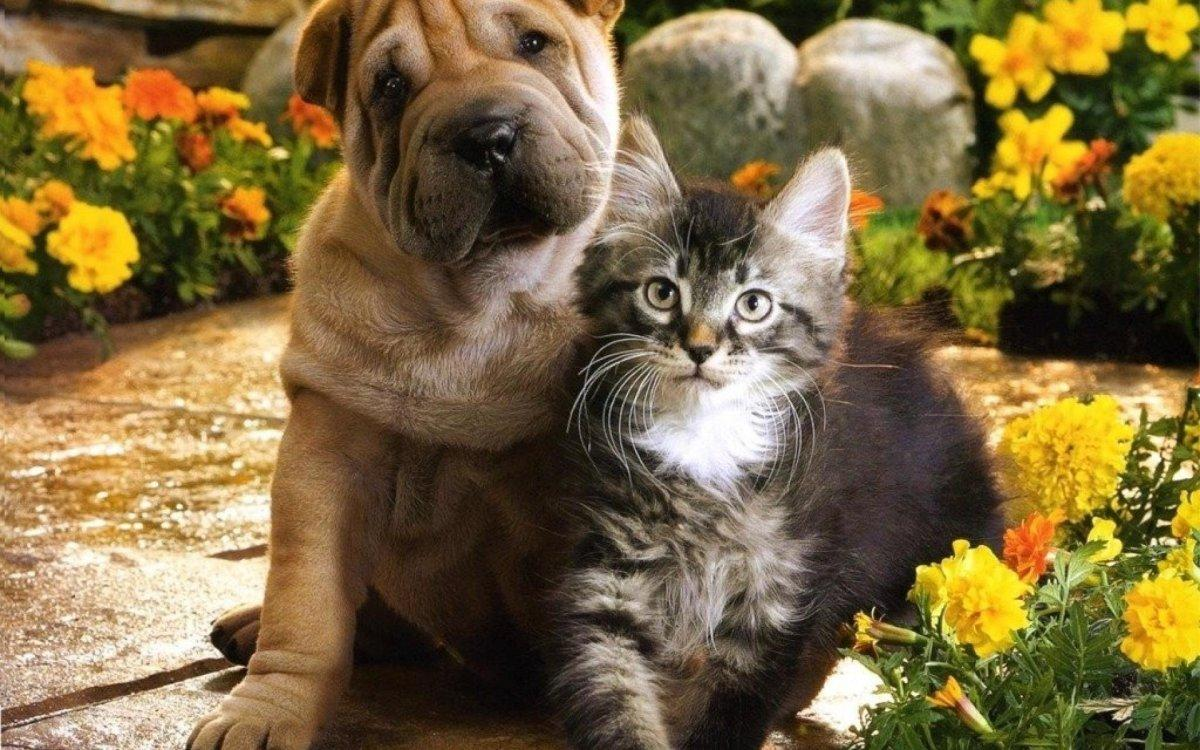animals: (224, 0, 630, 708), (568, 106, 1000, 747)
